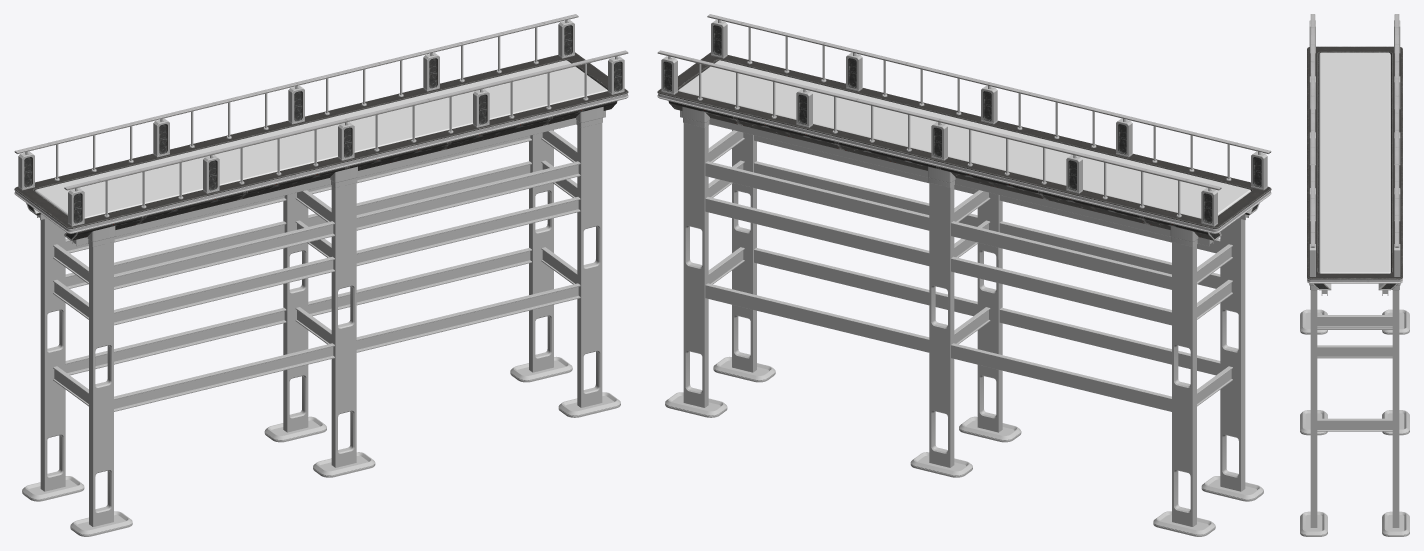
The model's file is KB3D_MTM_PropWalkwaySystem_B.fbx.
3 renders of one model, left to right at view 1: azimuth 30°, elevation 25°; view 2: azimuth 150°, elevation 25°; view 3: azimuth 270°, elevation 25°, orthographic. The views are drawn at different scales.
Parts seen in each view (by area): view 1: KB3D_MTM_PropWalkwaySystem_B_Main; view 2: KB3D_MTM_PropWalkwaySystem_B_Main; view 3: KB3D_MTM_PropWalkwaySystem_B_Main.
Part boxes in pixels (bbox=[...]): KB3D_MTM_PropWalkwaySystem_B_Main: bbox=[14, 14, 628, 536]; KB3D_MTM_PropWalkwaySystem_B_Main: bbox=[657, 14, 1271, 536]; KB3D_MTM_PropWalkwaySystem_B_Main: bbox=[1300, 14, 1409, 536].
Bounding box in the file's own units: 1657 × 979 × 330.
